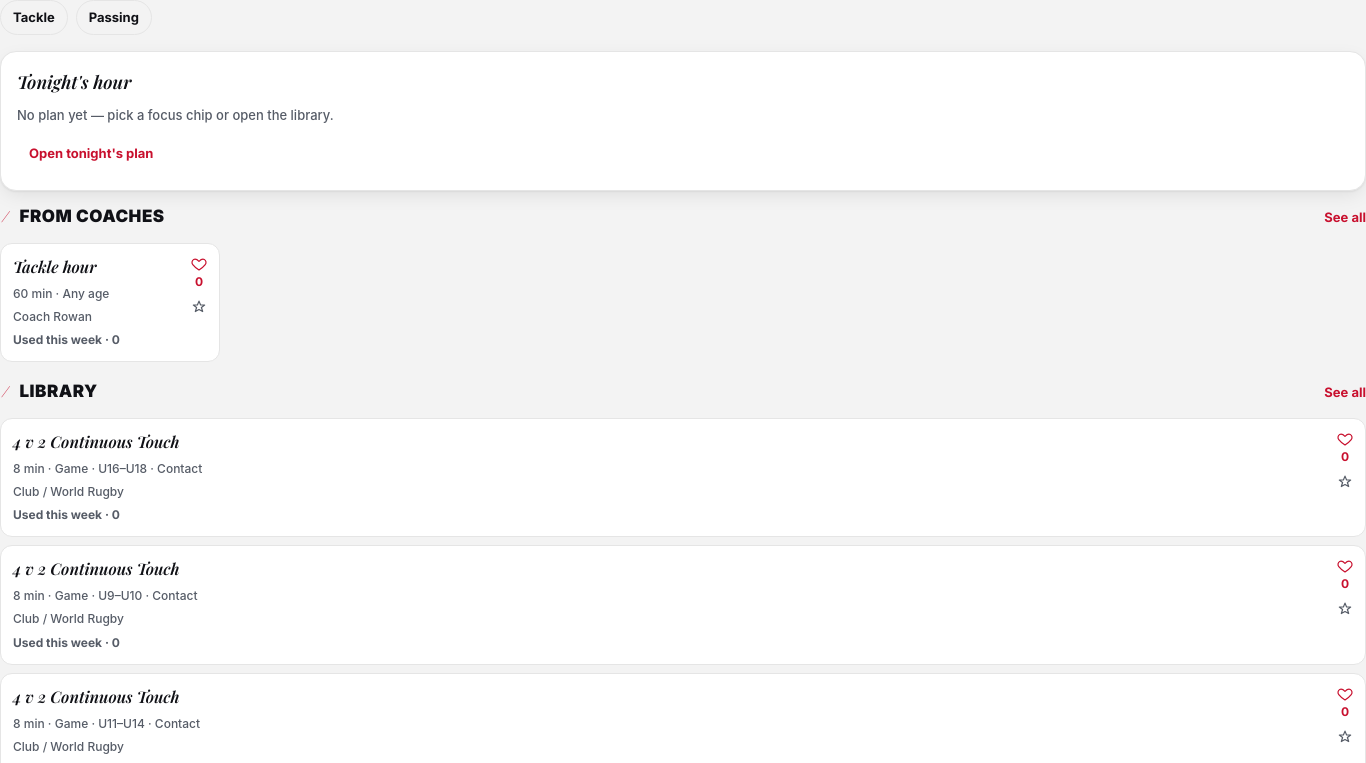
Test: library browse › library browse lists every copy too, and has no show-all-ages toggle
Click the 2nd button "See all" at (1345, 393), box [1324,382,1365,403]
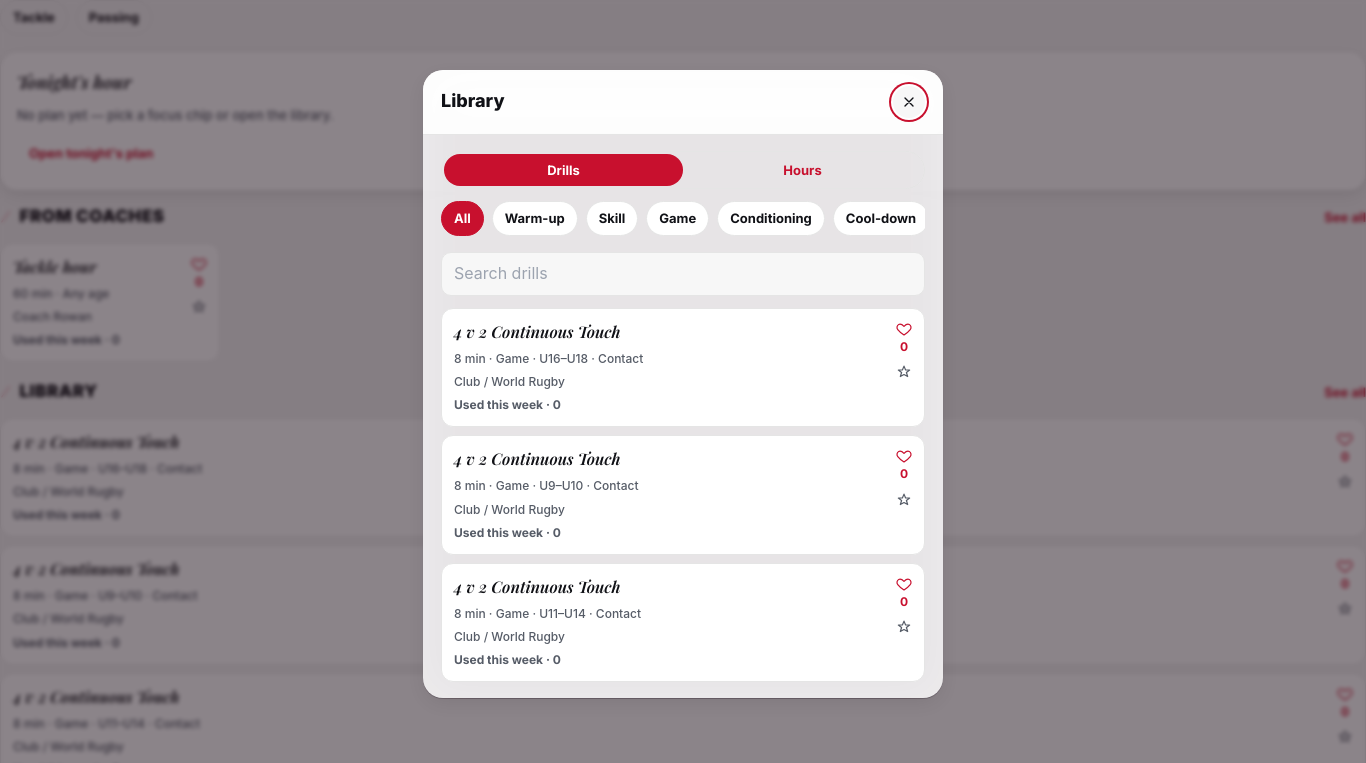
Now the number of headings "4 v 2 Continuous Touch" is 3, box [454,321,620,342]; [454,448,620,469]; [454,576,620,597]
